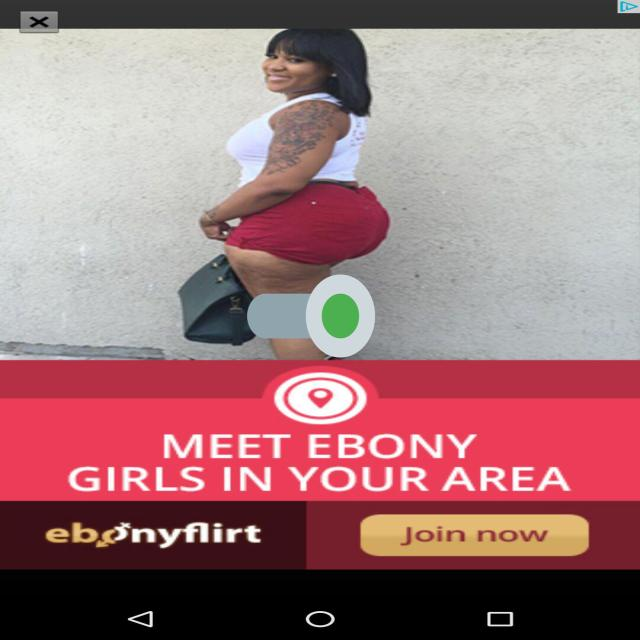social proof: (247, 239, 375, 393)
